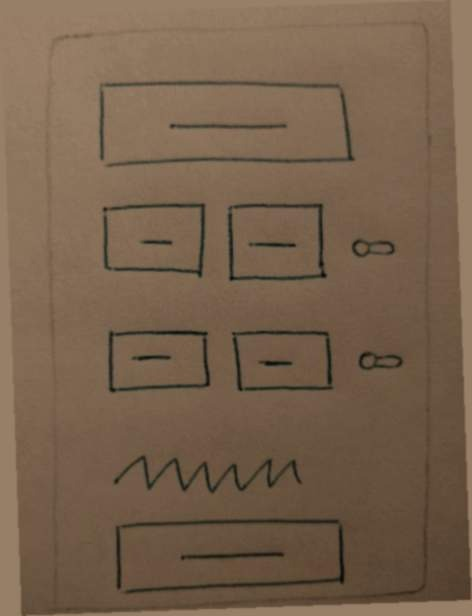button: (80, 65, 370, 180), (108, 503, 355, 600), (88, 192, 219, 289), (90, 314, 218, 404), (220, 315, 347, 404), (220, 195, 340, 287)
switch: (342, 225, 415, 268), (350, 340, 418, 382)
text: (102, 439, 315, 500)
